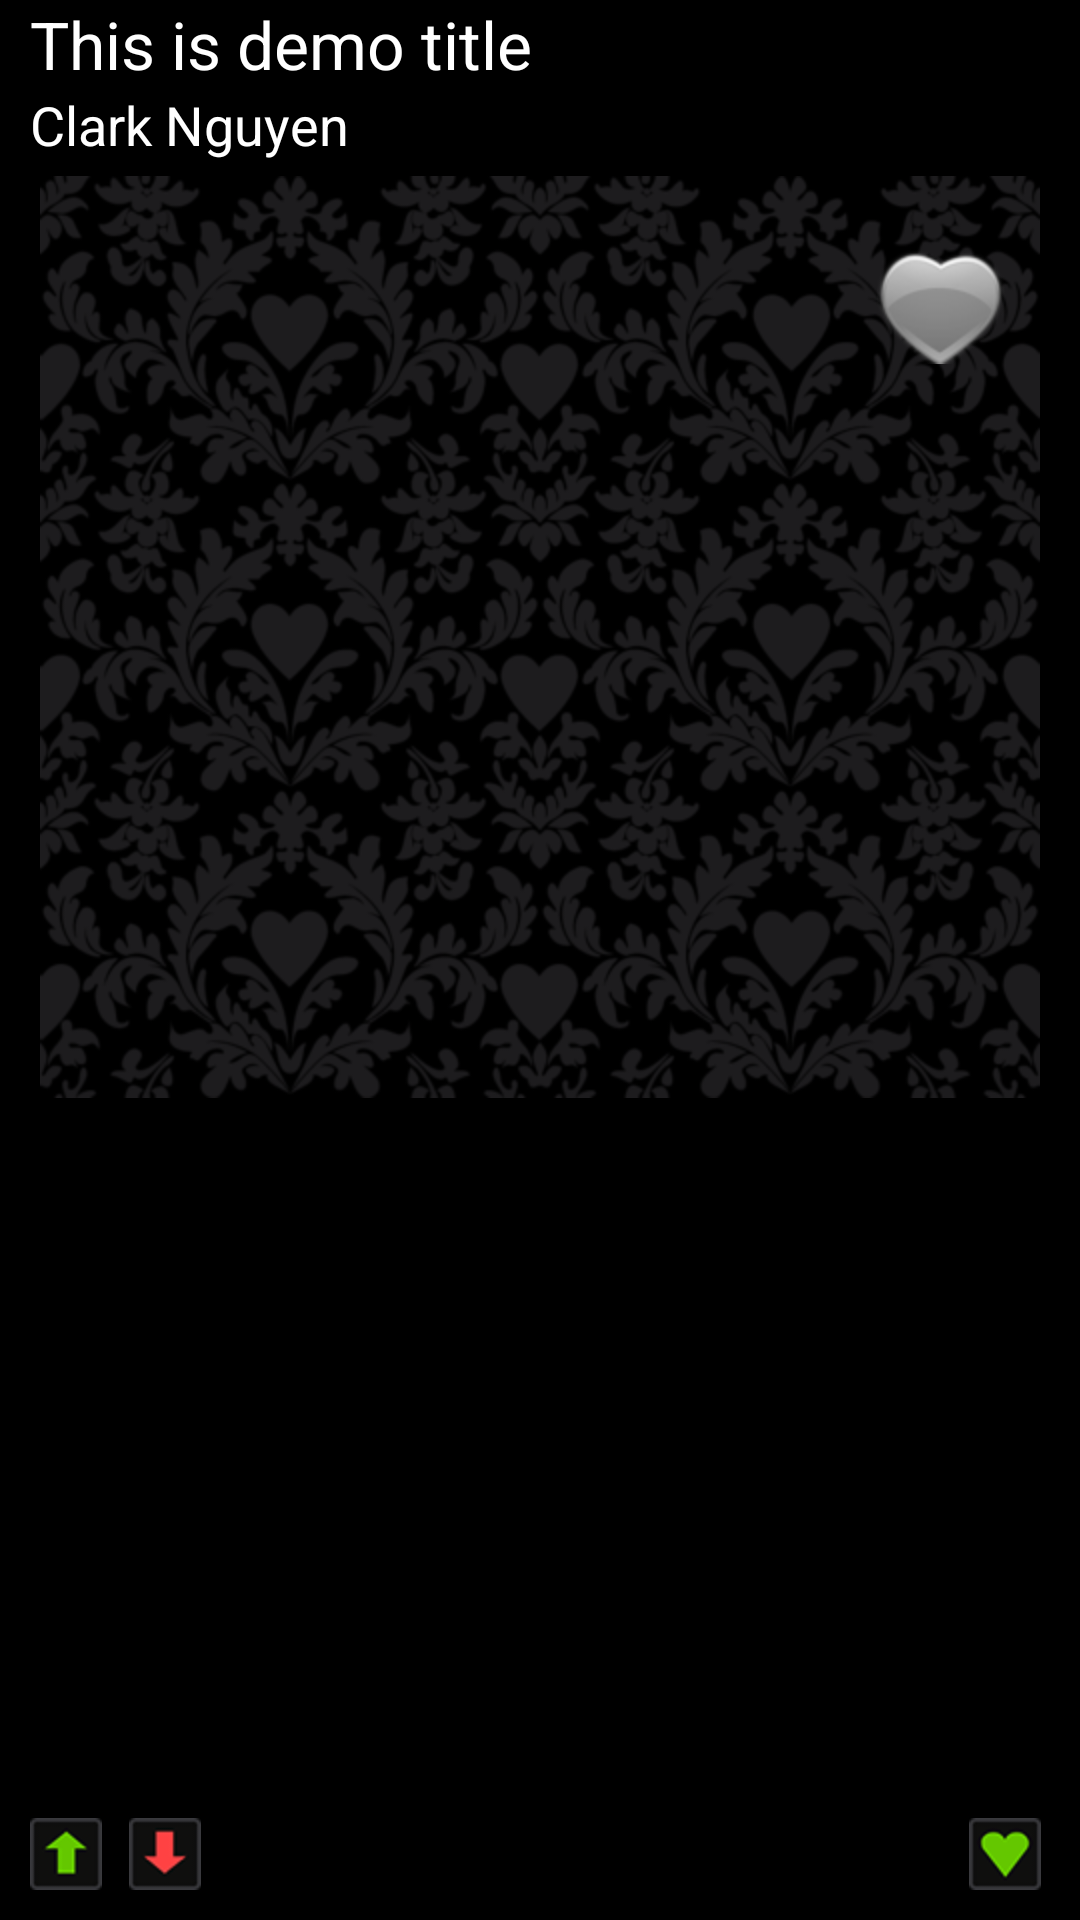

Icons on this 1080 × 1920 Android screen, each with the point to tap as (x,y):
favorite: (1005,1854)
favorite negative: (941,300)
vote down: (165,1854)
vote up: (66,1854)
